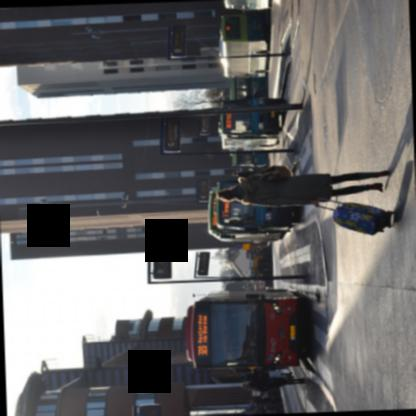backpack: (244, 164, 292, 181)
handbag: (269, 370, 282, 377)
suitcase: (315, 197, 395, 235)
